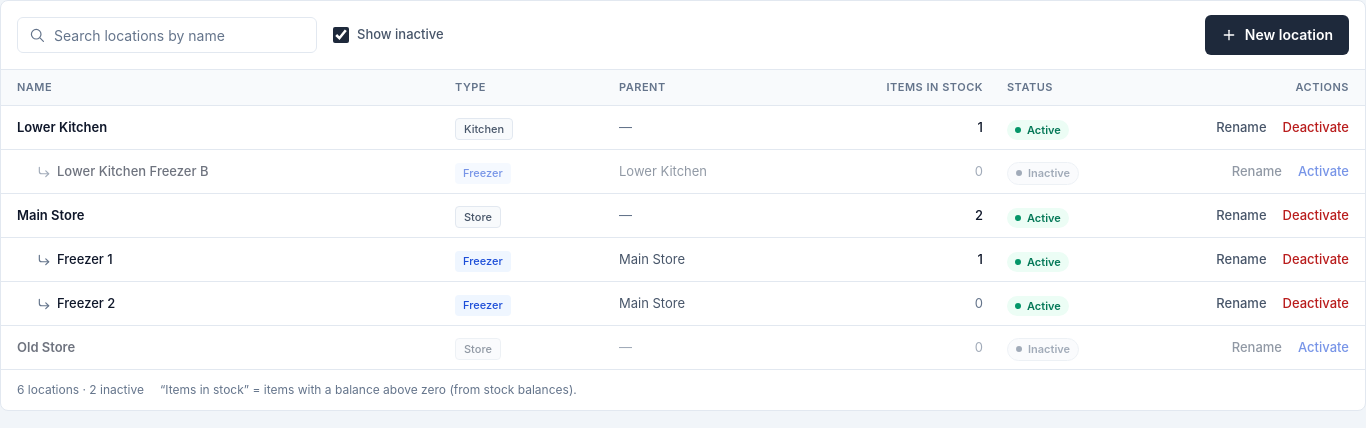
Test: StockLocationsPage (UI-STOCK-002, desktop) › filters by name and hides inactive locations when "Show inactive" is unticked
Step 1. Click the checkbox labelled "Show inactive" → (341, 35), box [333, 27, 349, 43]
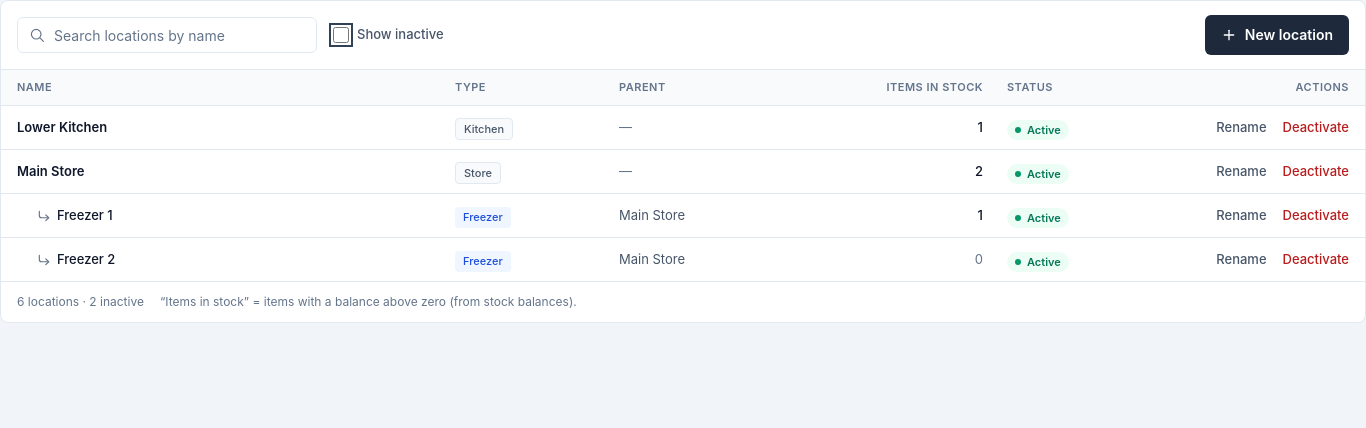
expect the text "Old Store" is gone: met
expect the text "Lower Kitchen Freezer B" is gone: met
Step 2. Type "freezer" into the search field labelled "Search locations by name" → (167, 35), box [17, 17, 317, 53]
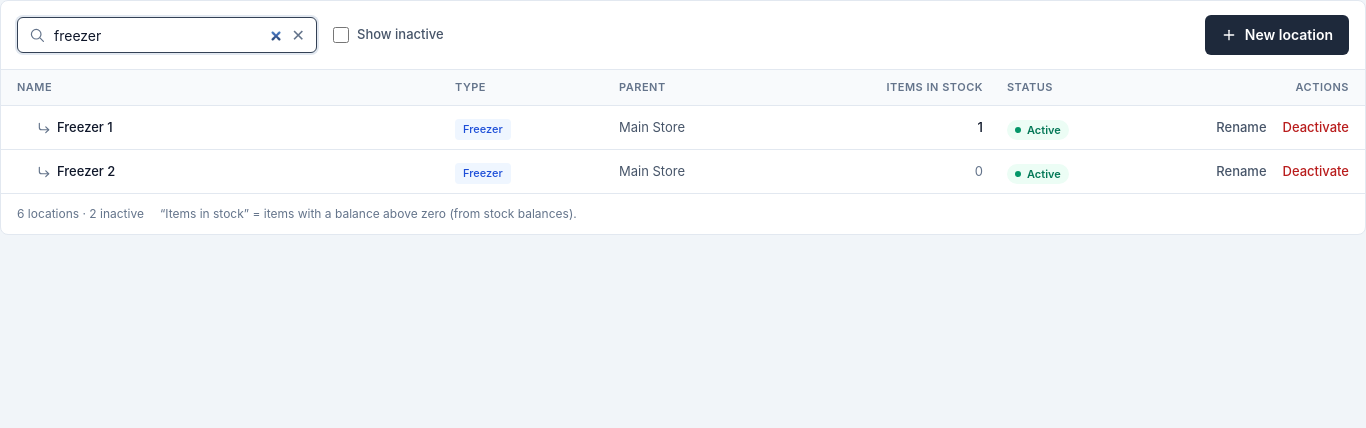
expect the text "Freezer 1" is shown: met, box [57, 118, 113, 137]
Step 3. Type "zzz" into the search field → (167, 35), box [17, 17, 317, 53]
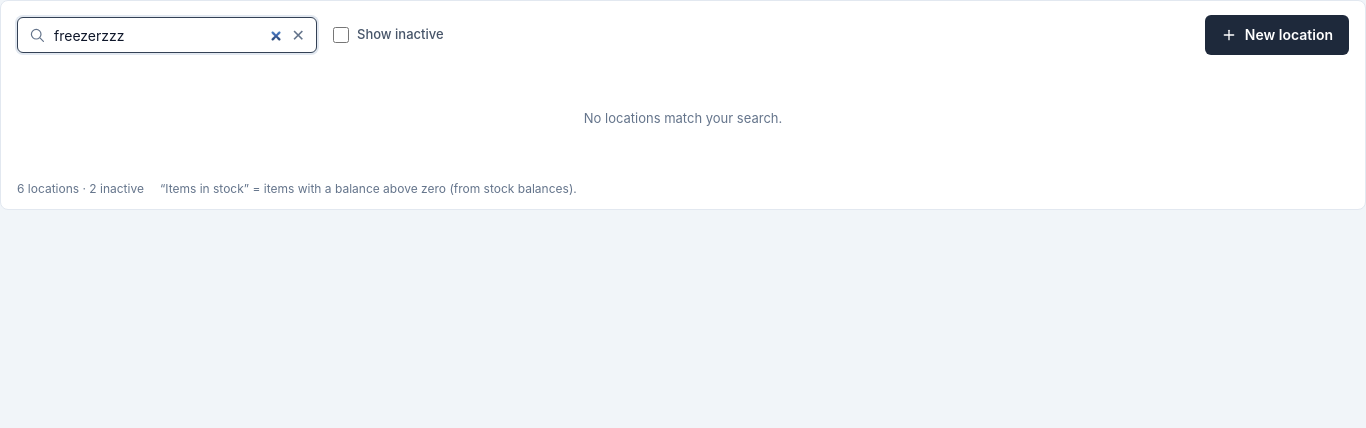
expect the text "No locations match your search." is shown: met, box [584, 110, 782, 126]
